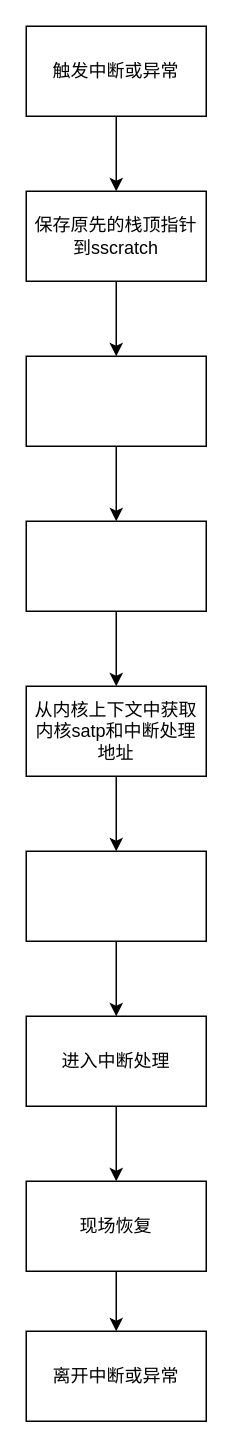
The diagram is 233 pixels wide and 1448 high, and some of its shapes have lost their labels. The shapes that lost their labels are listed below. From the top down, each one's centre as x and y in pixels, then its label:
At pixel 115 400: "切换到内核栈".
At pixel 115 565: "保存寄存器".
At pixel 115 895: "切换到内核页表".
